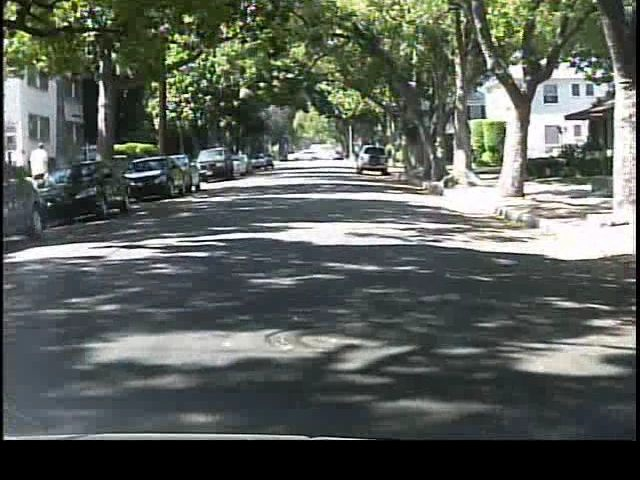person: (30, 138, 58, 204)
